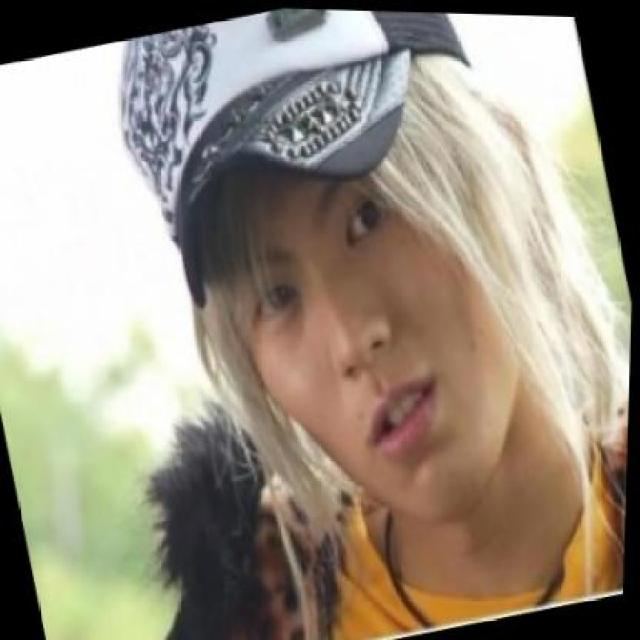hat: (115, 7, 471, 307)
